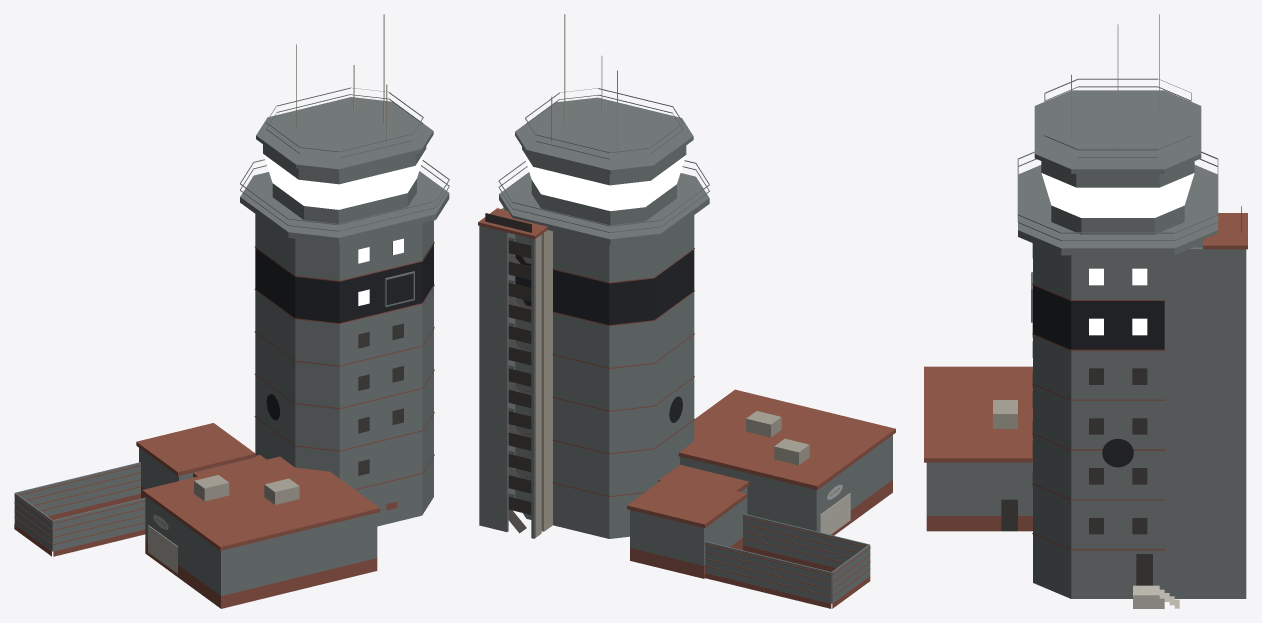
The model's file is cyxd_control_tower_lod1.gltf.
3 renders of one model, left to right at view 1: azimuth 30°, elevation 25°; view 2: azimuth 150°, elevation 25°; view 3: azimuth 270°, elevation 25°, orthographic. The views are drawn at different scales.
Visible parts, largest first — view 1: cyxd_control_tower; view 2: cyxd_control_tower; view 3: cyxd_control_tower.
Boxes of the visible parts, box(x1,y1,x2,y2) form: cyxd_control_tower: box(14, 14, 449, 608); cyxd_control_tower: box(478, 14, 895, 608); cyxd_control_tower: box(924, 14, 1247, 608).
Size of the model in its own units: 29.73 by 36.95 by 19.45.
